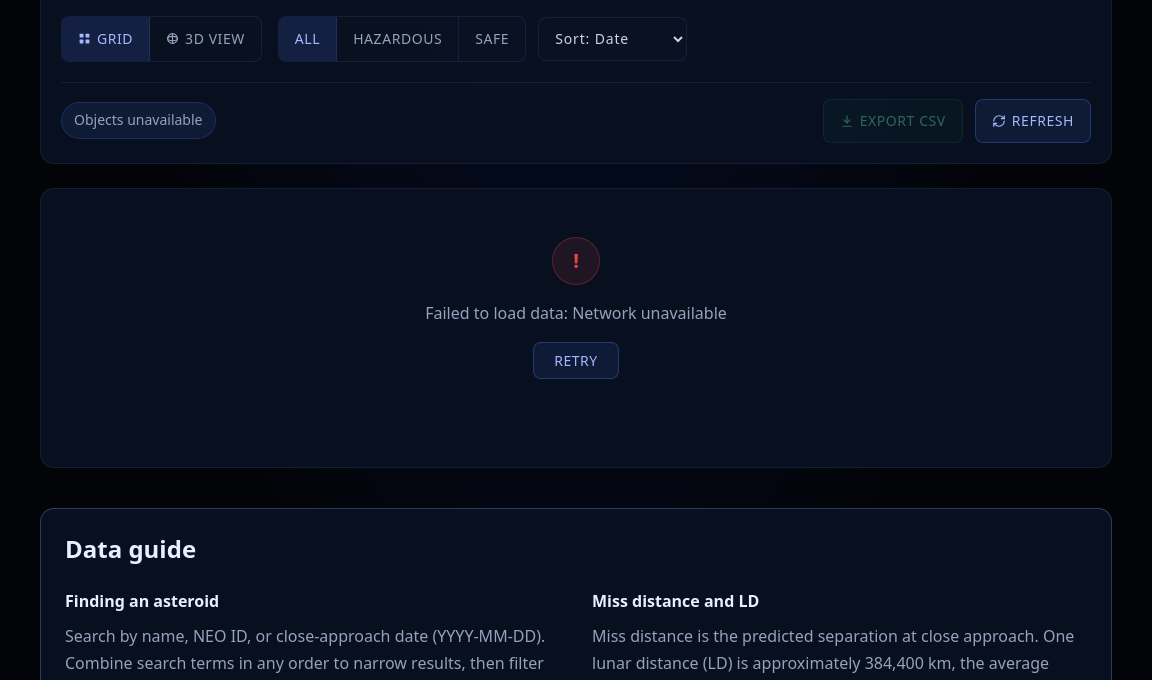
Scenario: offers retry after a failed request
(page scrolled)
Expected: the message "! Failed to load data: Network unavailable Retry" is shown, 40,188 -> 1112,468
What coordinates should you click on to do the following:
click the button "Retry"
I would click on:
 (576, 361)
Its box is 533,342 -> 619,379.
(page scrolled)
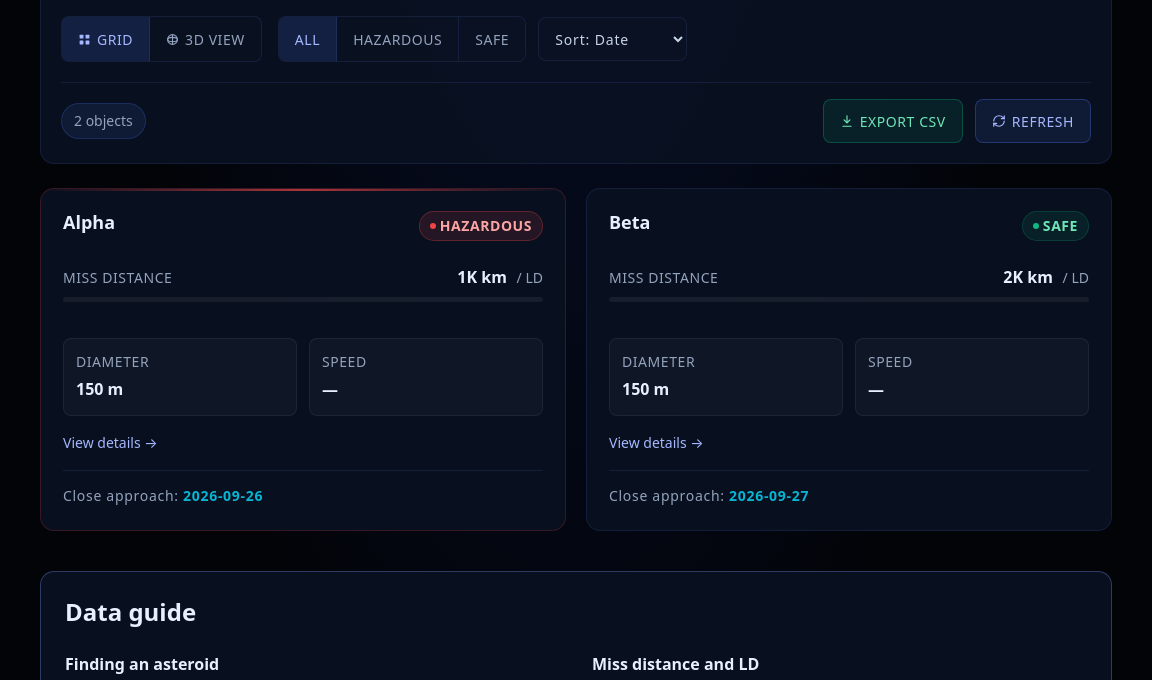
Now the button named "View details for Alpha" is shown, box 40,188 -> 566,531
